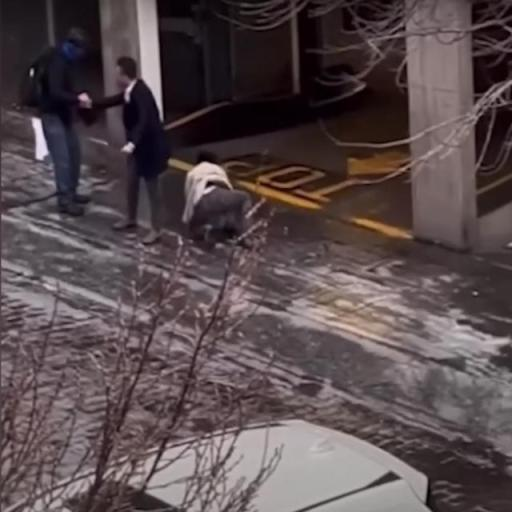Fall: (180, 147, 263, 254)
